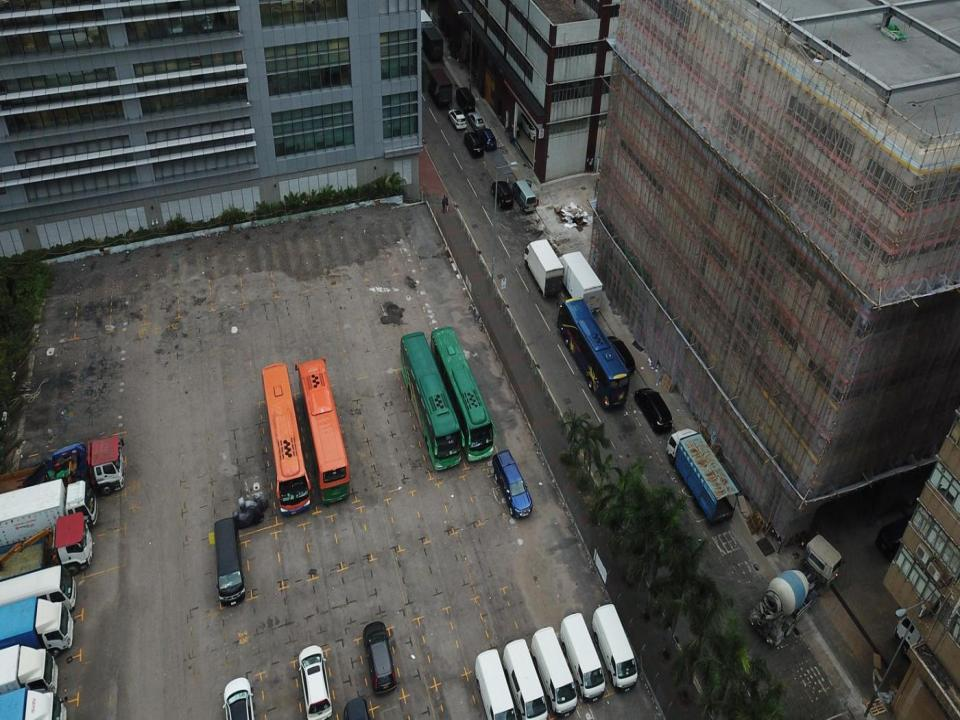bus: (399, 327, 463, 472), (294, 352, 352, 507), (430, 324, 494, 462), (257, 360, 313, 516), (556, 294, 628, 412), (0, 557, 77, 616)
car: (492, 446, 533, 518), (363, 624, 399, 696), (298, 643, 332, 719), (634, 384, 672, 436), (218, 672, 258, 719), (603, 330, 636, 379), (491, 178, 513, 212), (340, 695, 370, 719), (476, 126, 497, 154), (464, 131, 484, 158), (447, 106, 467, 130), (467, 110, 484, 130)
truck: (746, 532, 841, 648), (0, 432, 125, 514), (0, 475, 99, 554), (666, 426, 738, 524), (0, 510, 93, 581), (0, 593, 73, 660), (0, 643, 61, 700), (557, 249, 603, 317), (523, 238, 564, 298), (0, 689, 71, 718), (427, 65, 451, 110)
van: (531, 622, 580, 716), (590, 602, 639, 696), (560, 611, 608, 703), (502, 635, 549, 719), (213, 514, 248, 610), (475, 643, 518, 719), (510, 178, 538, 213), (455, 86, 476, 115)
